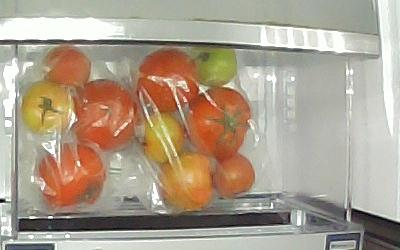tomato_vinyl: (72, 78, 138, 150), (188, 86, 252, 158), (38, 142, 107, 208), (137, 47, 200, 114), (158, 153, 215, 213), (22, 82, 73, 134), (136, 113, 187, 163), (42, 44, 91, 88), (210, 152, 255, 198), (189, 47, 239, 88)
